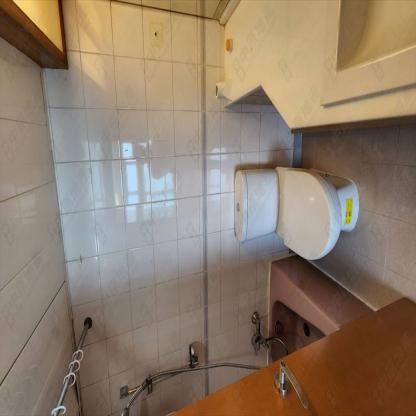Bathtub: (267, 251, 378, 361)
Toilet: (234, 165, 358, 262)
Toilet Sink: (321, 0, 416, 104)
